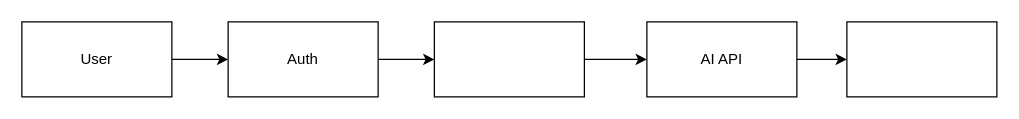
Some shapes in this 1019 by 119 pixel diagram are drawn without their labels. The shapes that lost their labels are listed below. From the top down, each one's box as (x1, y1, x2, y2) in pixels, then its label:
(433, 21, 584, 97): Dashboard
(846, 21, 997, 97): Gemini / Groq / GPT
